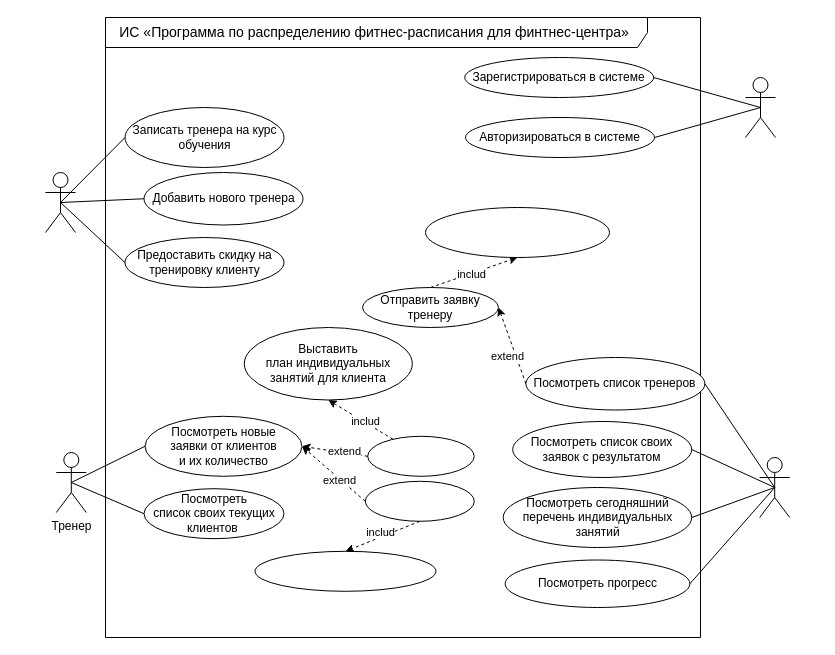
Image size: 835x655. Some labels were removed from this diagram. Here are the shapes that lost their labels. From the top down, the box of each, then its label:
(744, 76, 776, 138): Неавто ризированый пользователь
(44, 172, 76, 232): Администратор
(424, 206, 610, 258): Указать цель, которую клиент хочет достигнуть
(367, 435, 474, 476): Принять заявку
(364, 480, 474, 521): Отклонить заявку
(759, 456, 790, 518): Клиент
(254, 550, 436, 591): Указать причину отклонения заявки
